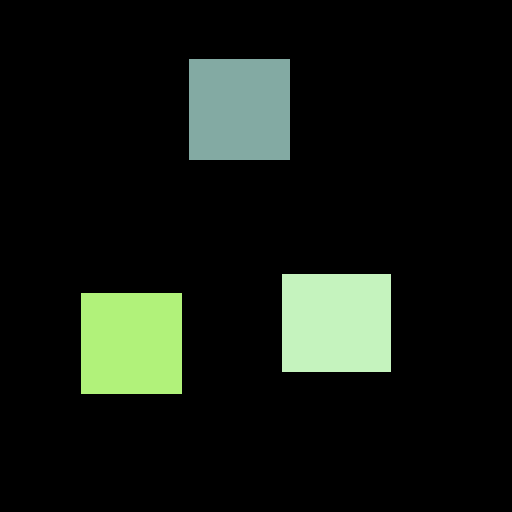rectangle: (282, 274, 390, 371)
square: (81, 293, 181, 393), (189, 59, 289, 159)
